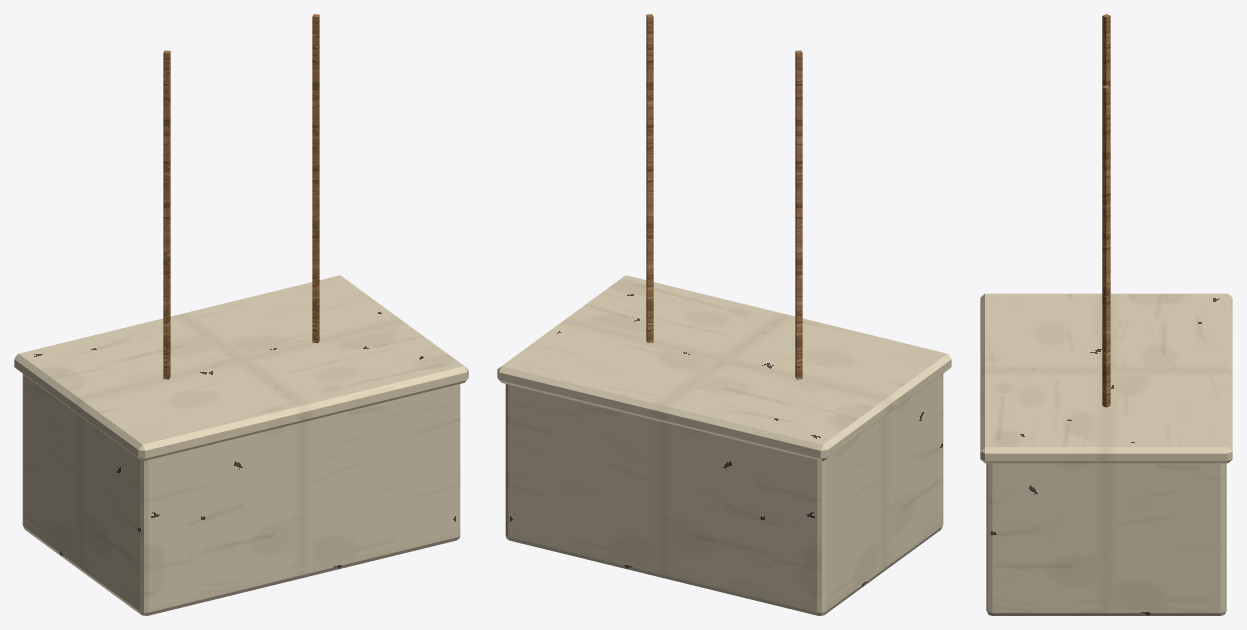
Rendered from styro_box.glb.
3 views of the same model, side by side, from view 1: azimuth 30°, elevation 25°; view 2: azimuth 150°, elevation 25°; view 3: azimuth 270°, elevation 25° (orthographic). The views are drawn at different scales.
Parts seen in each view (by area): view 1: p; view 2: p; view 3: p.
Boxes of the visible parts, x1,y1,x2,y2 form: p: (14, 14, 468, 615); p: (497, 14, 951, 615); p: (980, 14, 1232, 615).
Size of the model in its own units: 0.62 by 0.9 by 0.42.
Materials: 3 (3 with a texture image).
